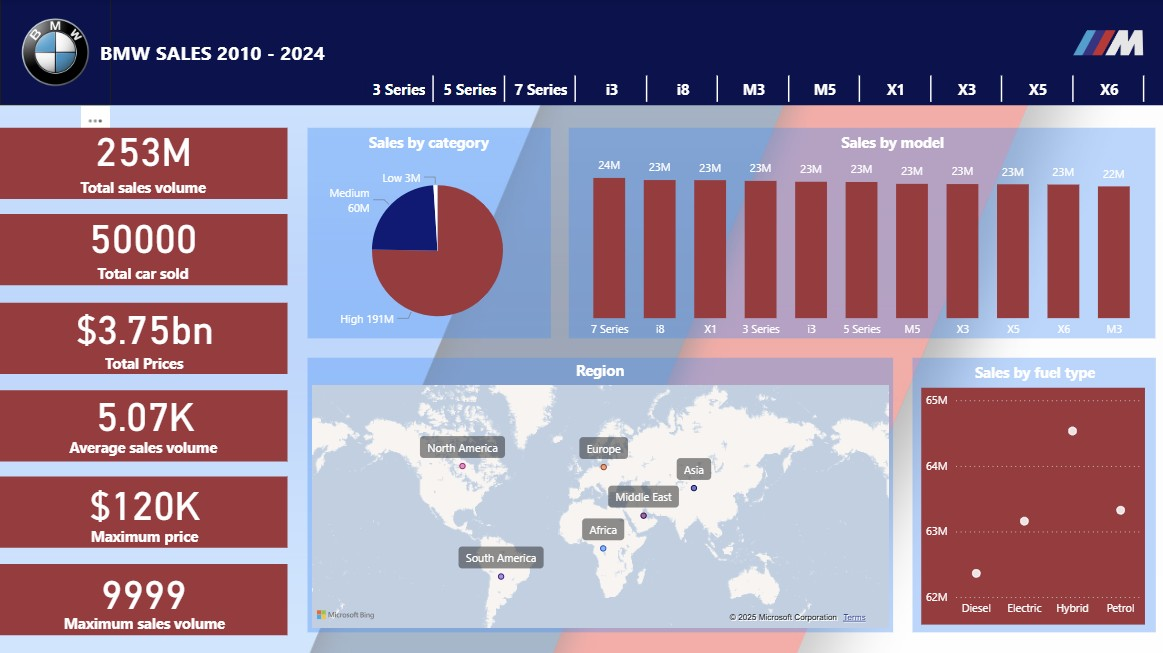

What the dashboard file says about the page in this screenshot:
{"tool":"powerbi","page":{"name":"Page 1","canvas":[1280,720],"ordinal":0},"visuals":[{"type":"shape","box":[0,0,1280.3,116.6],"z":0},{"type":"image","box":[0,0,122.1,116.6],"z":1000},{"type":"textbox","box":[91.9,38.4,282.7,39.8],"z":2000},{"type":"shape","box":[0,141.3,315.6,78.2],"z":3000},{"type":"shape","box":[0,236,315.6,78.2],"z":4000},{"type":"shape","box":[0,333.4,315.6,78.2],"z":5000},{"type":"shape","box":[0,429.5,315.6,78.2],"z":6000},{"type":"shape","box":[0,524.2,315.6,78.2],"z":7000},{"type":"shape","box":[0,620.2,315.6,78.2],"z":8000},{"type":"textbox","box":[78.2,190.7,157.8,34.3],"z":9000},{"type":"slicer","fields":{"Values":["BMW_sales_wrangled.Model"]},"box":[374.6,76.8,905.7,39.8],"z":10000},{"type":"image","box":[1167.8,0,101.5,97.4],"z":11000},{"type":"card","fields":{"Values":["Sum(BMW_sales_wrangled.Sales_Volume)"]},"box":[81,116.6,153.7,94.7],"z":12000},{"type":"textbox","box":[78.3,285.8,157.5,34.2],"z":13000},{"type":"card","fields":{"Values":["CountNonNull(BMW_sales_wrangled.Model)"]},"box":[73.3,211.7,168.3,95],"z":14000},{"type":"textbox","box":[79.1,383.6,157.3,34.5],"z":15000},{"type":"card","fields":{"Values":["Sum(BMW_sales_wrangled.Price_USD)"]},"box":[62.9,330,192.1,60],"z":16000},{"type":"textbox","box":[56.4,476.4,201.8,34.5],"z":17000},{"type":"card","fields":{"Values":["Avg(BMW_sales_wrangled.Sales_Volume)"]},"box":[81.8,407.3,153.6,94.5],"z":18000},{"type":"textbox","box":[57.3,573.6,201.8,34.5],"z":19000},{"type":"card","fields":{"Values":["Max(BMW_sales_wrangled.Price_USD)"]},"box":[63,524,192,57],"z":20000},{"type":"textbox","box":[57.3,670,201.8,34.5],"z":21000},{"type":"card","fields":{"Values":["Max(BMW_sales_wrangled.Sales_Volume)"]},"box":[80.9,601.8,153.6,94.5],"z":22000},{"type":"shape","box":[624.3,141.4,644.3,231.4],"z":24000},{"type":"shape","box":[337.1,141.4,267.1,231.4],"z":25001},{"type":"shape","box":[337.1,394.3,642.9,301.4],"z":25002},{"type":"shape","box":[1001.4,394.3,267.1,301.4],"z":25003},{"type":"map","fields":{"Category":["BMW_sales_wrangled.Region"],"Series":["BMW_sales_wrangled.Region"]},"box":[337.1,418.6,642.9,277.1],"z":25004},{"type":"textbox","box":[622.9,391.4,71.4,35.7],"z":25005},{"type":"textbox","box":[908.6,141.4,142.9,35.7],"z":25006},{"type":"columnChart","fields":{"Category":["BMW_sales_wrangled.Model"],"Y":["Sum(BMW_sales_wrangled.Sales_Volume)"]},"box":[624.3,160,644.3,220],"z":25007},{"type":"textbox","box":[400,141.4,142.9,35.7],"z":25008},{"type":"pieChart","fields":{"Category":["BMW_sales_wrangled.SalesCategory"],"Y":["Sum(BMW_sales_wrangled.Sales_Volume)"]},"box":[337.1,172.9,285.7,207.1],"z":25009},{"type":"textbox","box":[1064.3,394.3,142.9,35.7],"z":25010},{"type":"scatterChart","fields":{"Y":["Sum(BMW_sales_wrangled.Sales_Volume)"],"X":["BMW_sales_wrangled.Fuel_Type"]},"box":[1011.4,427.1,245.7,260],"z":25011}]}

Visuals, with their boxes in screenshot pixels (x1, y1, x2, y2), scaled from the page's 1280x720 canvas onto the 1163x653 screenshot:
shape: bbox=[0, 0, 1162, 106]
image: bbox=[0, 0, 111, 106]
textbox: bbox=[83, 35, 340, 71]
shape: bbox=[0, 128, 287, 199]
shape: bbox=[0, 214, 287, 285]
shape: bbox=[0, 302, 287, 373]
shape: bbox=[0, 390, 287, 460]
shape: bbox=[0, 475, 287, 546]
shape: bbox=[0, 562, 287, 633]
textbox: bbox=[71, 173, 214, 204]
slicer - BMW_sales_wrangled.Model: bbox=[340, 70, 1162, 106]
image: bbox=[1061, 0, 1153, 88]
card - Sum(BMW_sales_wrangled.Sales_Volume): bbox=[74, 106, 213, 192]
textbox: bbox=[71, 259, 214, 290]
card - CountNonNull(BMW_sales_wrangled.Model): bbox=[67, 192, 220, 278]
textbox: bbox=[72, 348, 215, 379]
card - Sum(BMW_sales_wrangled.Price_USD): bbox=[57, 299, 232, 354]
textbox: bbox=[51, 432, 235, 463]
card - Avg(BMW_sales_wrangled.Sales_Volume): bbox=[74, 369, 214, 455]
textbox: bbox=[52, 520, 235, 552]
card - Max(BMW_sales_wrangled.Price_USD): bbox=[57, 475, 232, 527]
textbox: bbox=[52, 608, 235, 639]
card - Max(BMW_sales_wrangled.Sales_Volume): bbox=[74, 546, 213, 632]
shape: bbox=[567, 128, 1153, 338]
shape: bbox=[306, 128, 549, 338]
shape: bbox=[306, 358, 890, 631]
shape: bbox=[910, 358, 1153, 631]
map - BMW_sales_wrangled.Region x BMW_sales_wrangled.Region: bbox=[306, 380, 890, 631]
textbox: bbox=[566, 355, 631, 387]
textbox: bbox=[826, 128, 955, 161]
columnChart - BMW_sales_wrangled.Model x Sum(BMW_sales_wrangled.Sales_Volume): bbox=[567, 145, 1153, 345]
textbox: bbox=[363, 128, 493, 161]
pieChart - BMW_sales_wrangled.SalesCategory x Sum(BMW_sales_wrangled.Sales_Volume): bbox=[306, 157, 566, 345]
textbox: bbox=[967, 358, 1097, 390]
scatterChart - Sum(BMW_sales_wrangled.Sales_Volume) x BMW_sales_wrangled.Fuel_Type: bbox=[919, 387, 1142, 623]
